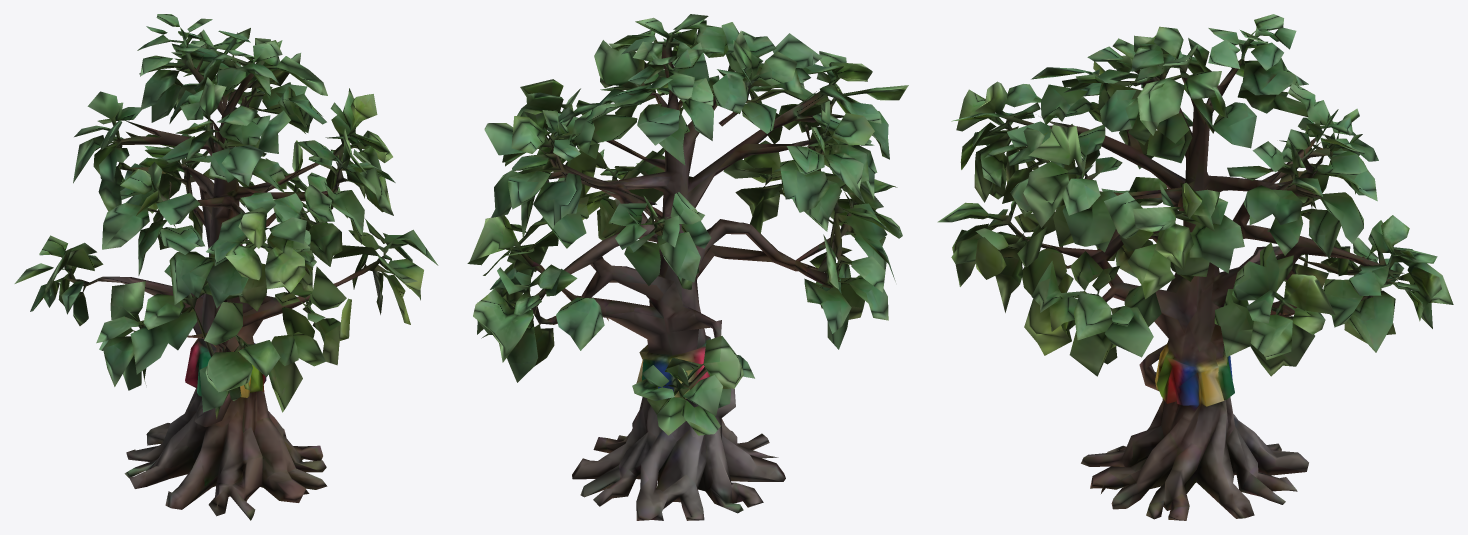
Rendered from bodhi.glb.
3 views of the same model, side by side, from view 1: azimuth 30°, elevation 25°; view 2: azimuth 150°, elevation 25°; view 3: azimuth 270°, elevation 25° (orthographic). The views are drawn at different scales.
Parts seen in each view (by area): view 1: tripo_node_f576b146-c0b4-4e78-bb8b-1143938442ae; view 2: tripo_node_f576b146-c0b4-4e78-bb8b-1143938442ae; view 3: tripo_node_f576b146-c0b4-4e78-bb8b-1143938442ae.
Part boxes in pixels (left/top/right/bottom): tripo_node_f576b146-c0b4-4e78-bb8b-1143938442ae: left=14, top=14, right=438, bottom=520; tripo_node_f576b146-c0b4-4e78-bb8b-1143938442ae: left=467, top=14, right=908, bottom=520; tripo_node_f576b146-c0b4-4e78-bb8b-1143938442ae: left=937, top=14, right=1453, bottom=520.
Size of the model in its own units: 0.9278 by 1.19 by 1.24.
1 material, 1 textured.
